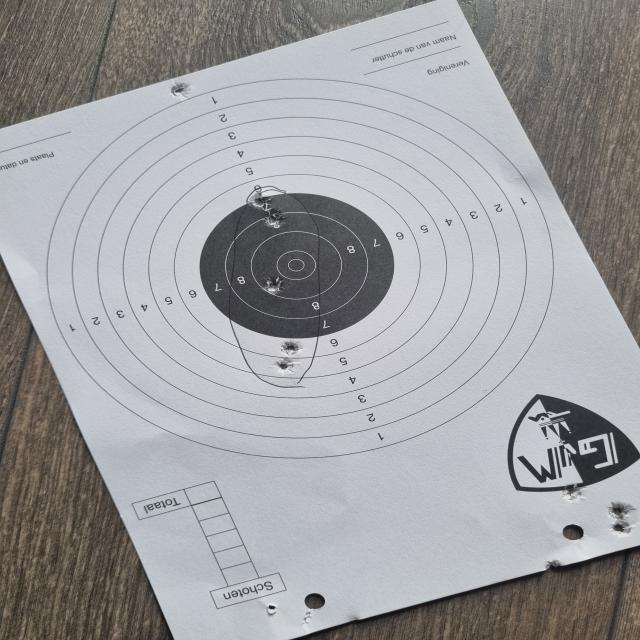10: (259, 276, 286, 294)
7: (278, 340, 304, 356), (276, 357, 296, 372)
8: (247, 193, 272, 207)
9: (262, 211, 286, 226)
Black Contour: (198, 192, 396, 340)
Target: (44, 78, 556, 460)
hole: (605, 502, 636, 520), (562, 484, 588, 501), (170, 84, 192, 100), (611, 520, 632, 534), (544, 560, 562, 569)
